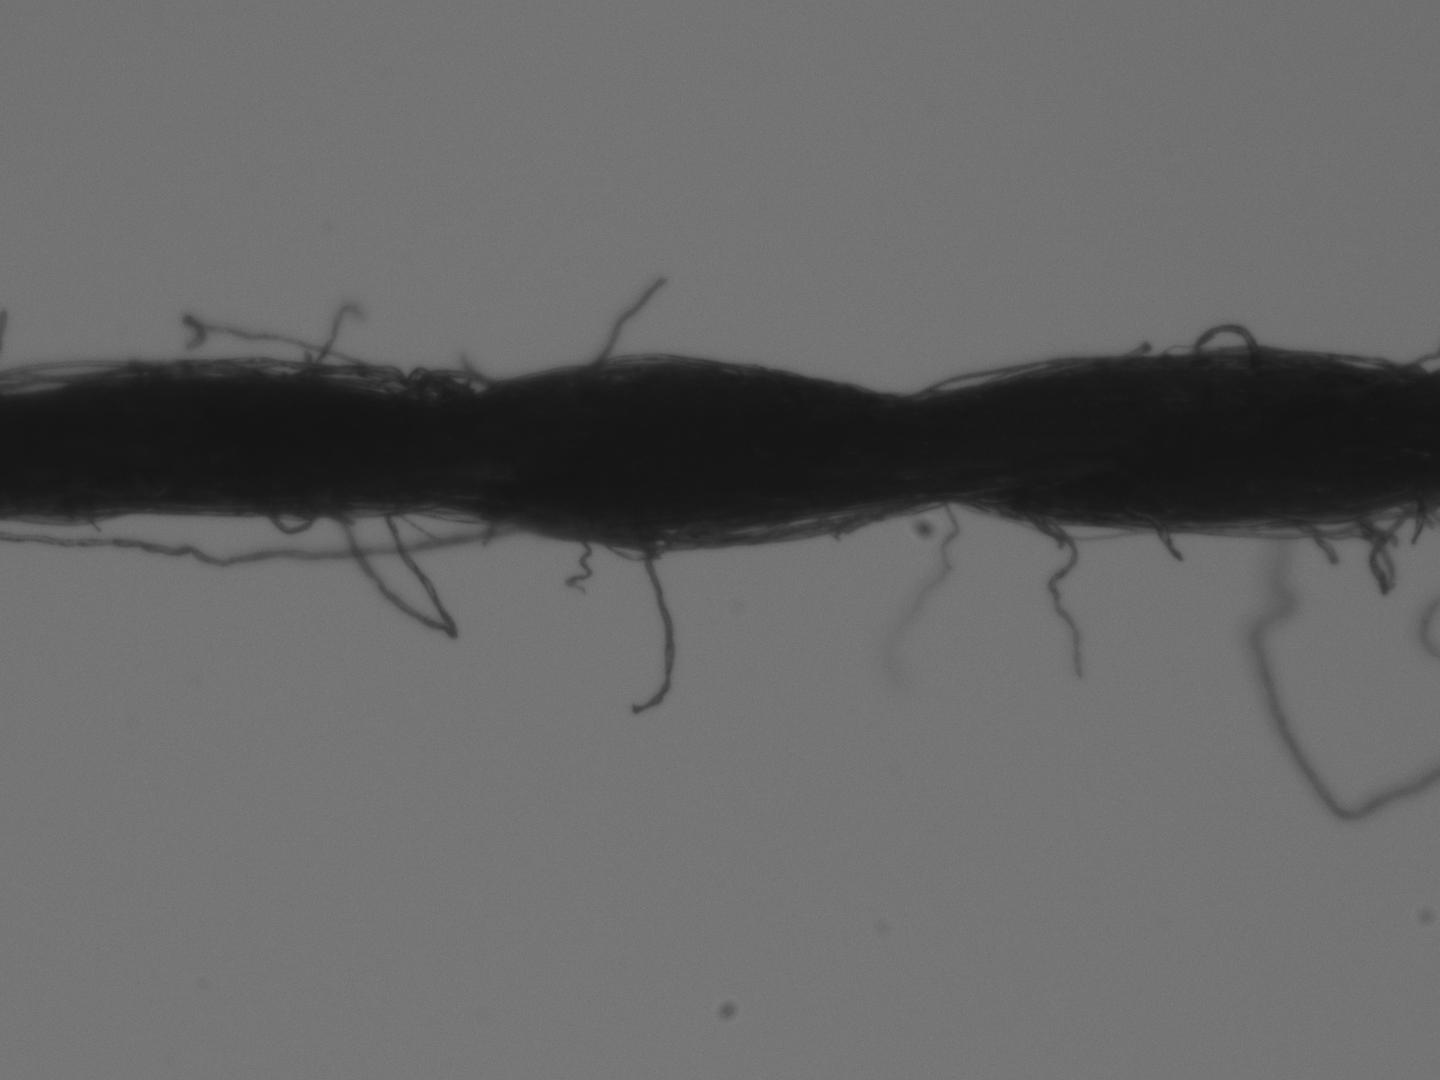loop_fiber: (339, 511, 456, 634), (703, 503, 889, 545), (1034, 518, 1083, 673), (76, 355, 314, 383), (304, 363, 484, 396), (913, 363, 1058, 397), (594, 522, 698, 563), (1188, 320, 1265, 363), (1293, 507, 1386, 537), (162, 356, 266, 381), (265, 513, 313, 538)
protruding_fiber: (628, 535, 674, 718), (592, 276, 670, 363), (310, 303, 366, 373), (1367, 507, 1413, 594), (1152, 525, 1189, 560)
